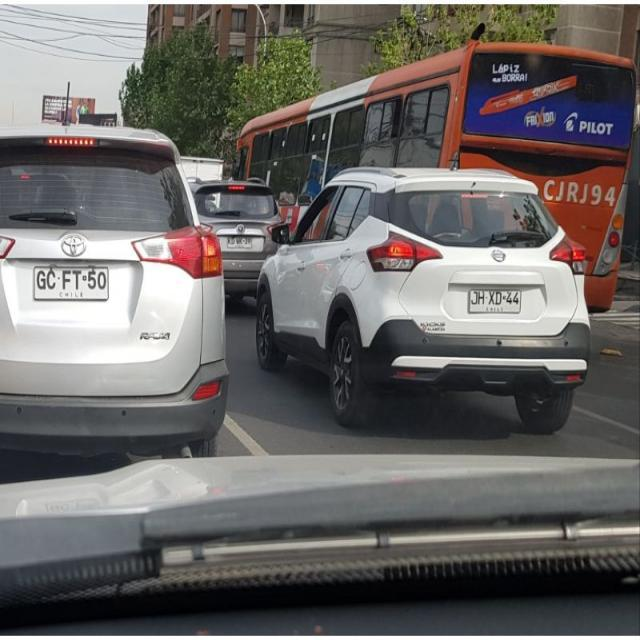Bus: (230, 37, 638, 312)
Car: (253, 164, 592, 433), (0, 121, 230, 459)
